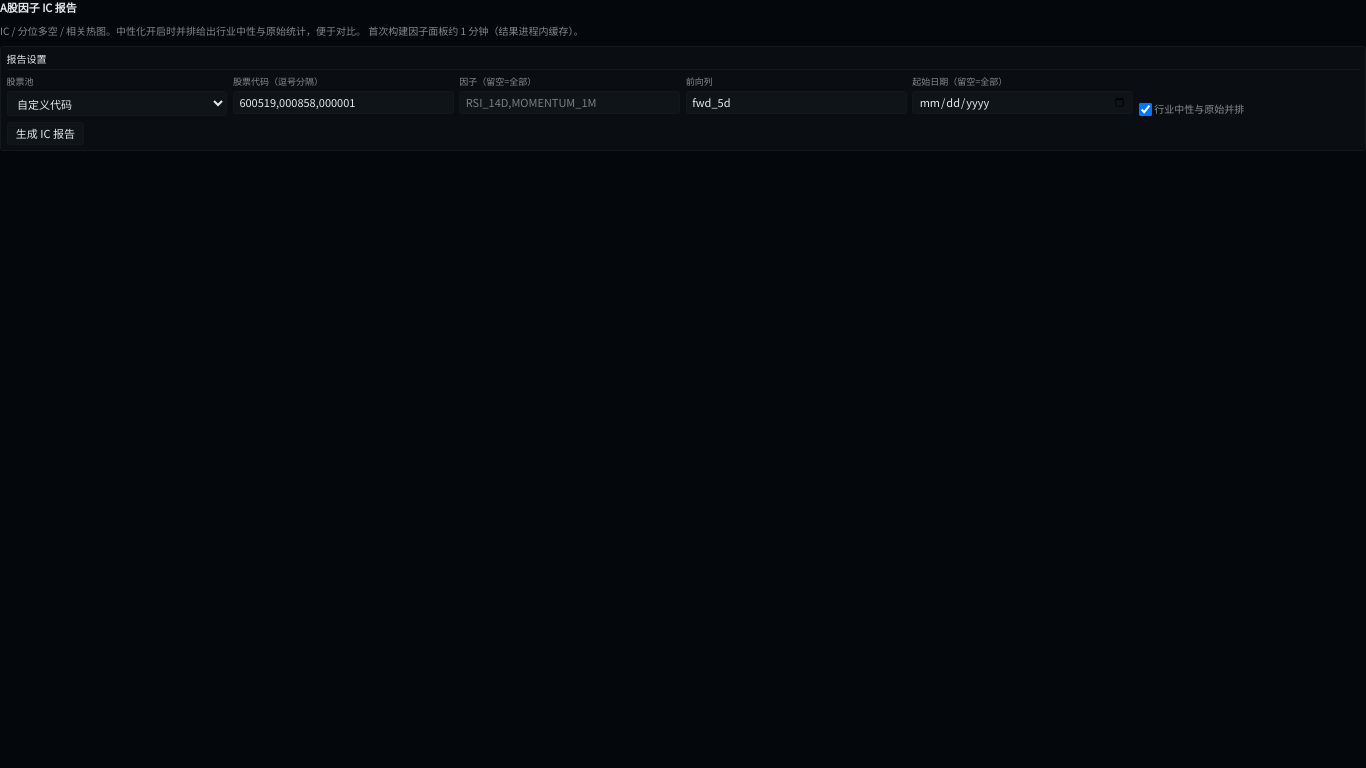
Test: AshareFactorReportPage › 中性化关闭:请求带 neutralize=false,不渲染中性列
The width and height of the screenshot is (1366, 768).
Click the checkbox: click(1145, 110) [1139,103,1152,116]
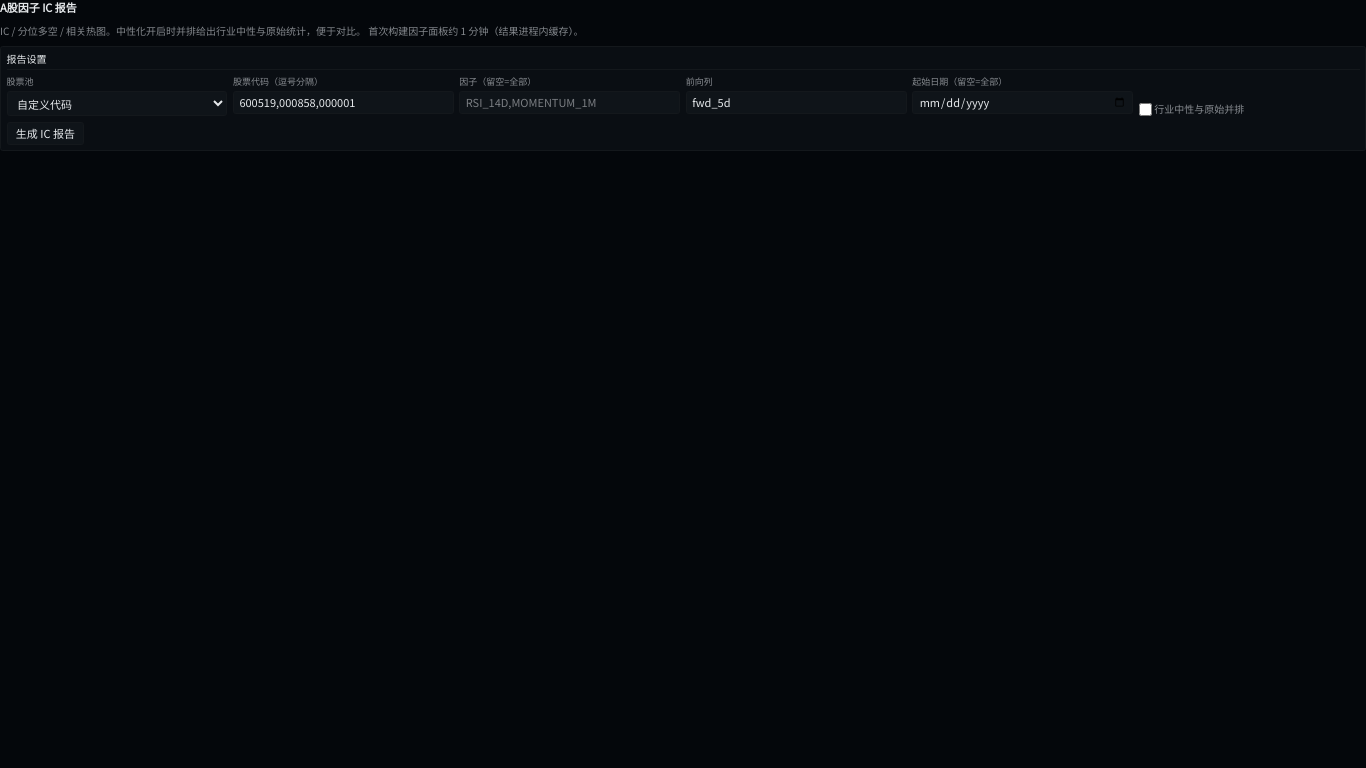
Click the button "生成 IC 报告": click(45, 133) [6,122,84,145]
(page scrolled)
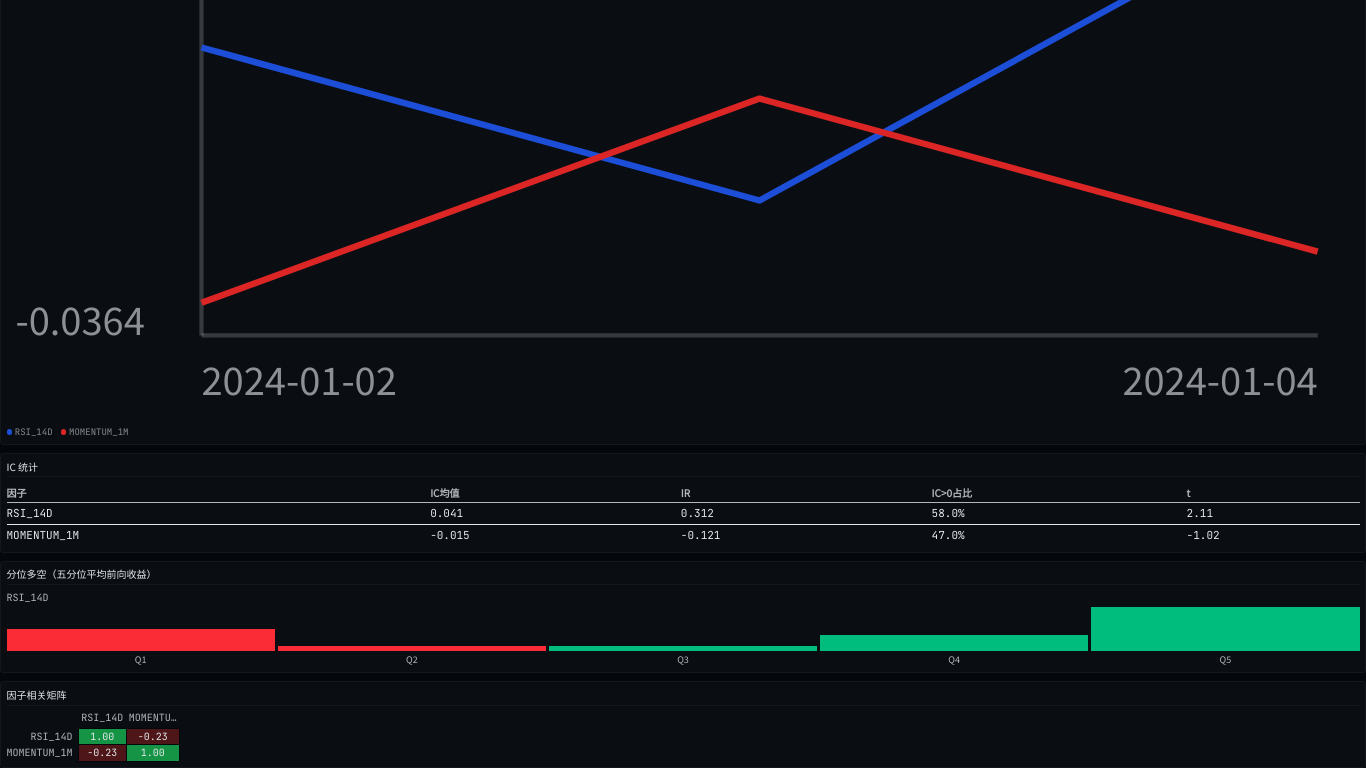
Result: the text "IC 统计" is shown at [6,460,38,474]
